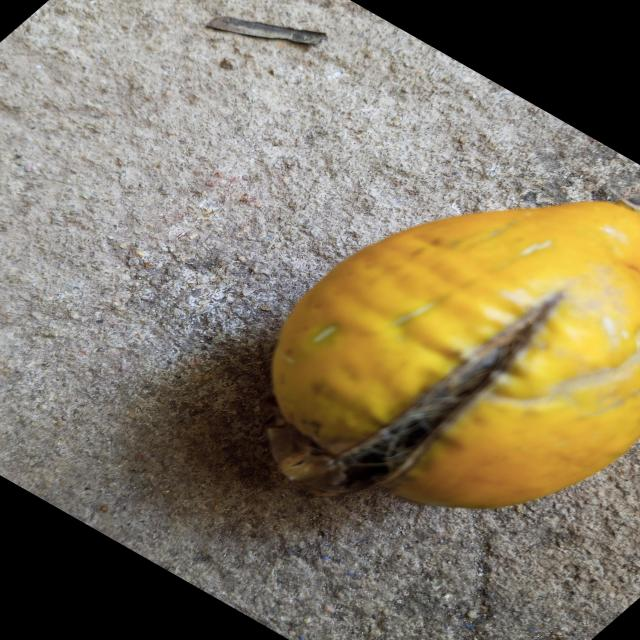damaged: (267, 201, 640, 508)
